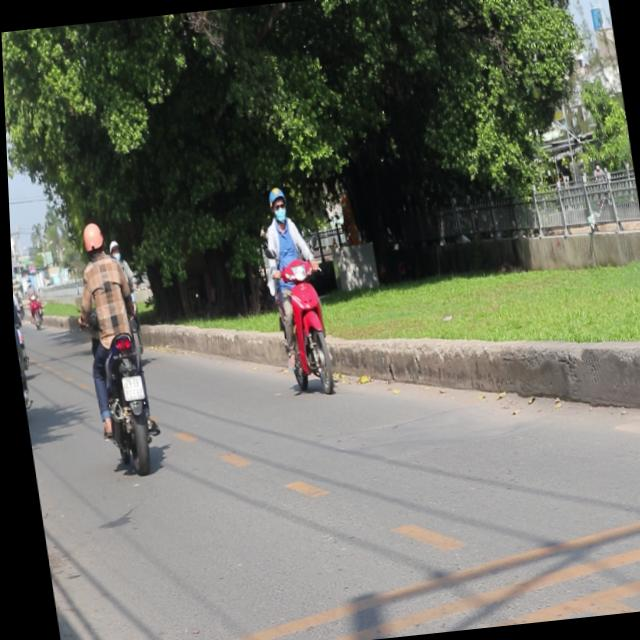helmet: (79, 220, 104, 258), (265, 185, 289, 223)
licenseplate: (64, 213, 166, 476), (251, 180, 339, 397)
nohelmet: (118, 374, 141, 400)
